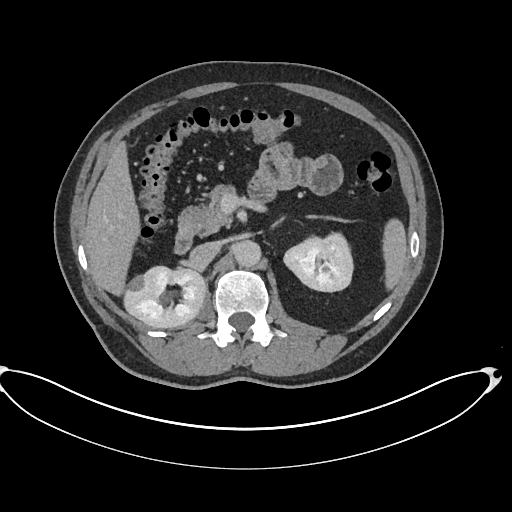Lesion: (123, 276, 147, 291)
